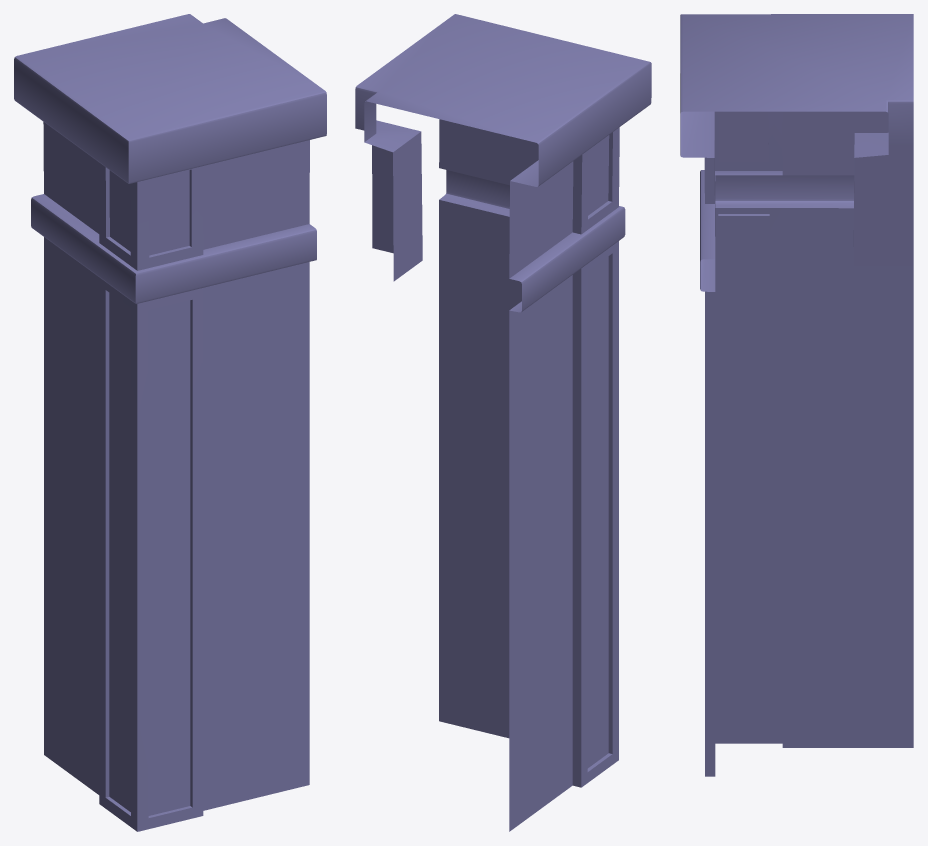
Rendered from M_A_wall_corner_01 1.fbx.
3 views of the same model, side by side, from view 1: azimuth 30°, elevation 25°; view 2: azimuth 150°, elevation 25°; view 3: azimuth 270°, elevation 25° (orthographic). The views are drawn at different scales.
Parts seen in each view (by area): view 1: M_A_wall_corner_01; view 2: M_A_wall_corner_01; view 3: M_A_wall_corner_01.
Part boxes in pixels (x1,y1,x2,y2): M_A_wall_corner_01: (14,14,326,831); M_A_wall_corner_01: (355,14,651,831); M_A_wall_corner_01: (680,14,913,776).
Size of the model in its own units: 118 by 400 by 118.
